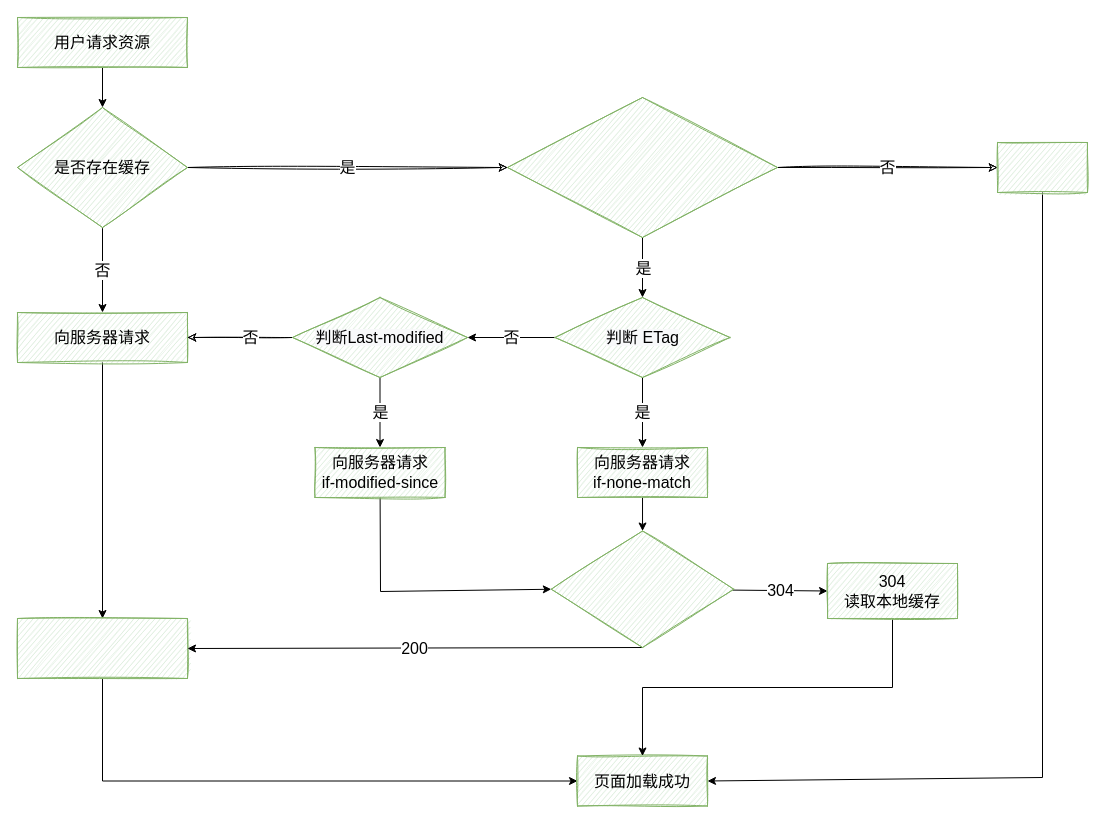
Some shapes in this 1105 by 824 pixel diagram are drawn without their labels. The box of each missing label's shape, as (x1, y1, x2, y2) in pixels:
是否过期: (506, 96, 778, 238)
服务器返回 200? 304?: (550, 530, 734, 648)
请求响应 协商缓存: (16, 618, 188, 678)
读取缓存: (996, 142, 1088, 192)
